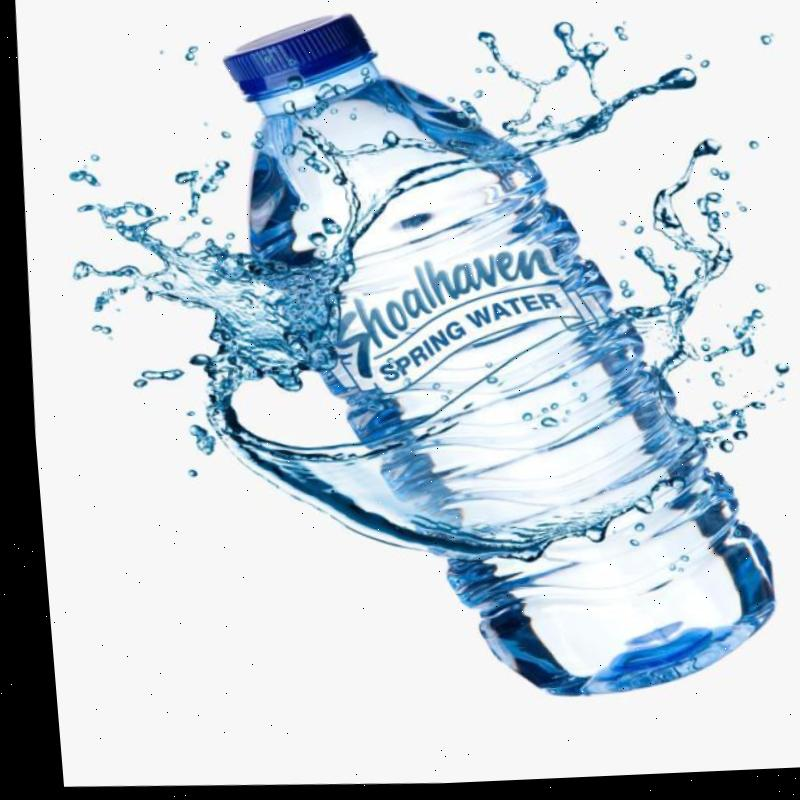botella: (195, 0, 795, 716)
